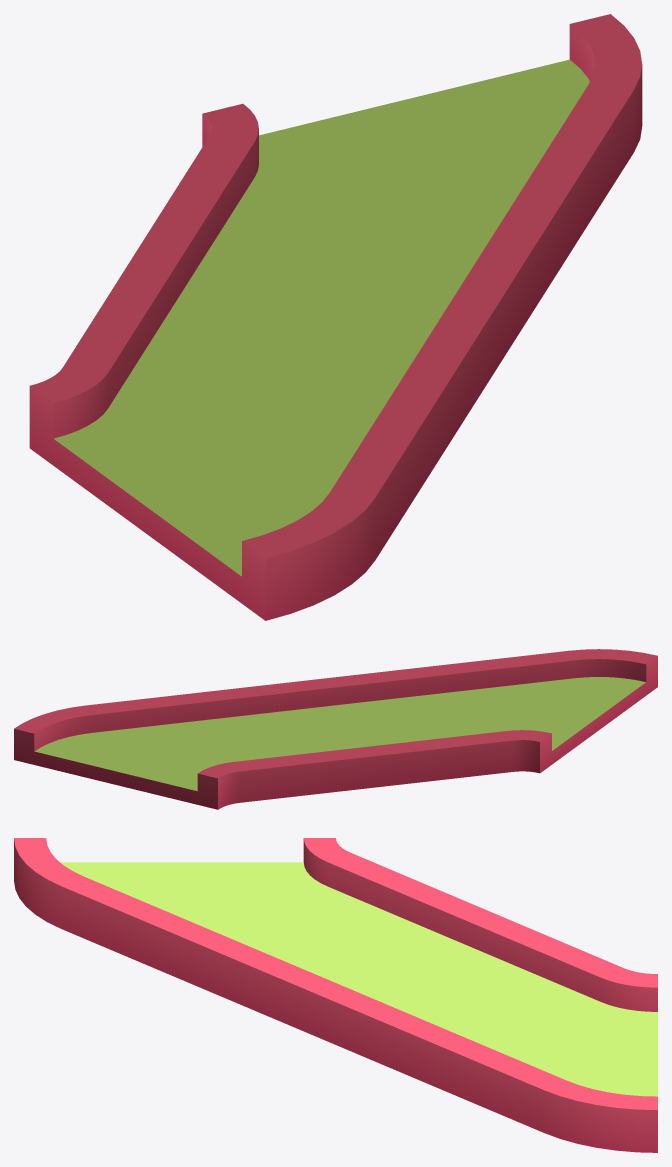
Rendered from skew-large-corner.gltf.
The picture shows the model from 3 angles, top to bottom: view 1: azimuth 30°, elevation 25°; view 2: azimuth 150°, elevation 25°; view 3: azimuth 270°, elevation 25°; orthographic projection. The views are drawn at different scales.
Parts seen in each view (by area): view 1: skew-large-corner; view 2: skew-large-corner; view 3: skew-large-corner.
Part boxes in pixels (x1,y1,x2,y2): skew-large-corner: (29, 14, 642, 620); skew-large-corner: (14, 649, 657, 809); skew-large-corner: (14, 838, 657, 1152).
Bounding box in the file's own units: 2 × 0.1467 × 2.
Materials: 1 (1 with a texture image).
